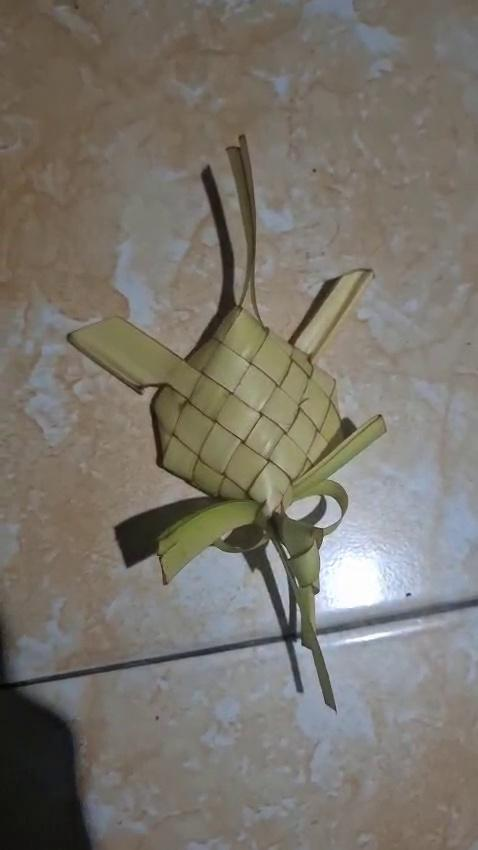Tipat Dampulan: (57, 146, 408, 649)
